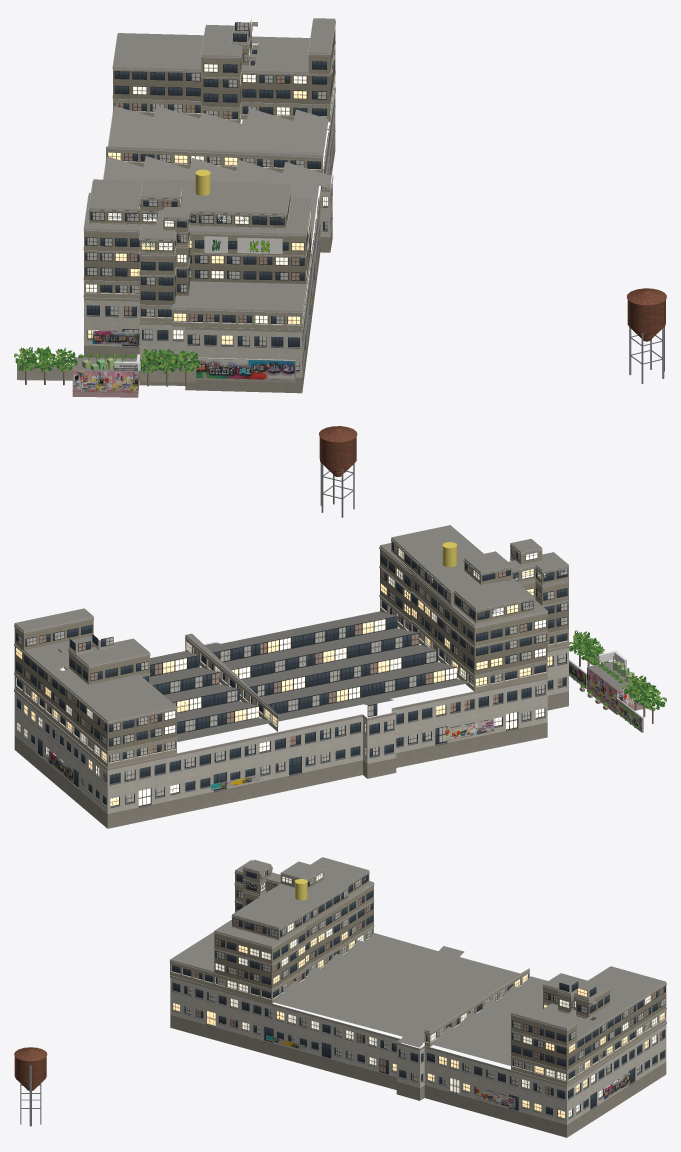
Rendered from zentralwaescherei.glb.
3 renders of one model, top to bottom at view 1: azimuth 30°, elevation 25°; view 2: azimuth 150°, elevation 25°; view 3: azimuth 270°, elevation 25°, orthographic. The views are drawn at different scales.
Parts seen in each view (by area): view 1: zentralwaescherei; view 2: zentralwaescherei; view 3: zentralwaescherei.
Boxes of the visible parts, left/top/right/bottom form: zentralwaescherei: left=14, top=16, right=666, bottom=397; zentralwaescherei: left=14, top=426, right=666, bottom=828; zentralwaescherei: left=14, top=857, right=666, bottom=1137.
Size of the model in its own units: 102 by 32.45 by 139.
7 materials, 7 textured.
